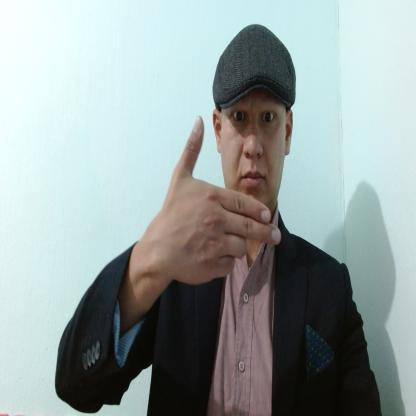H: (165, 115, 281, 286)
